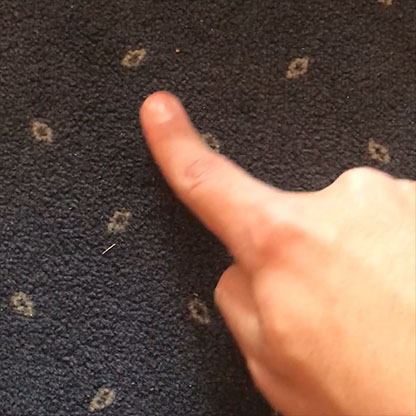fingertip: (129, 87, 195, 141)
